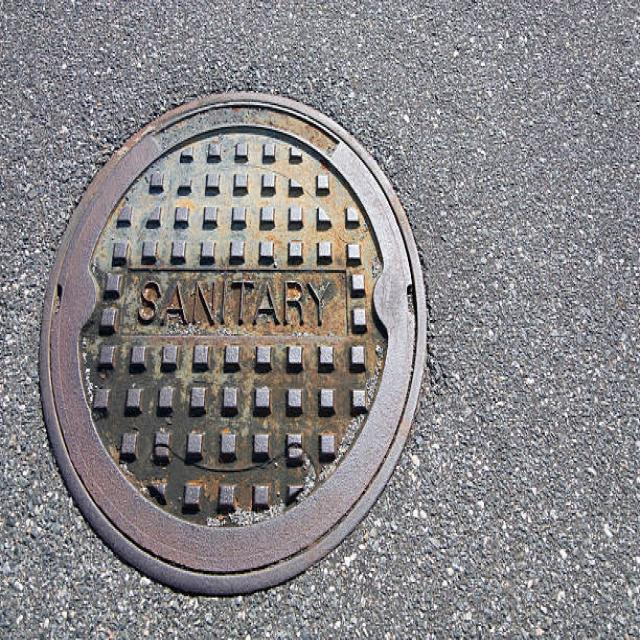Good: (36, 82, 438, 598)
